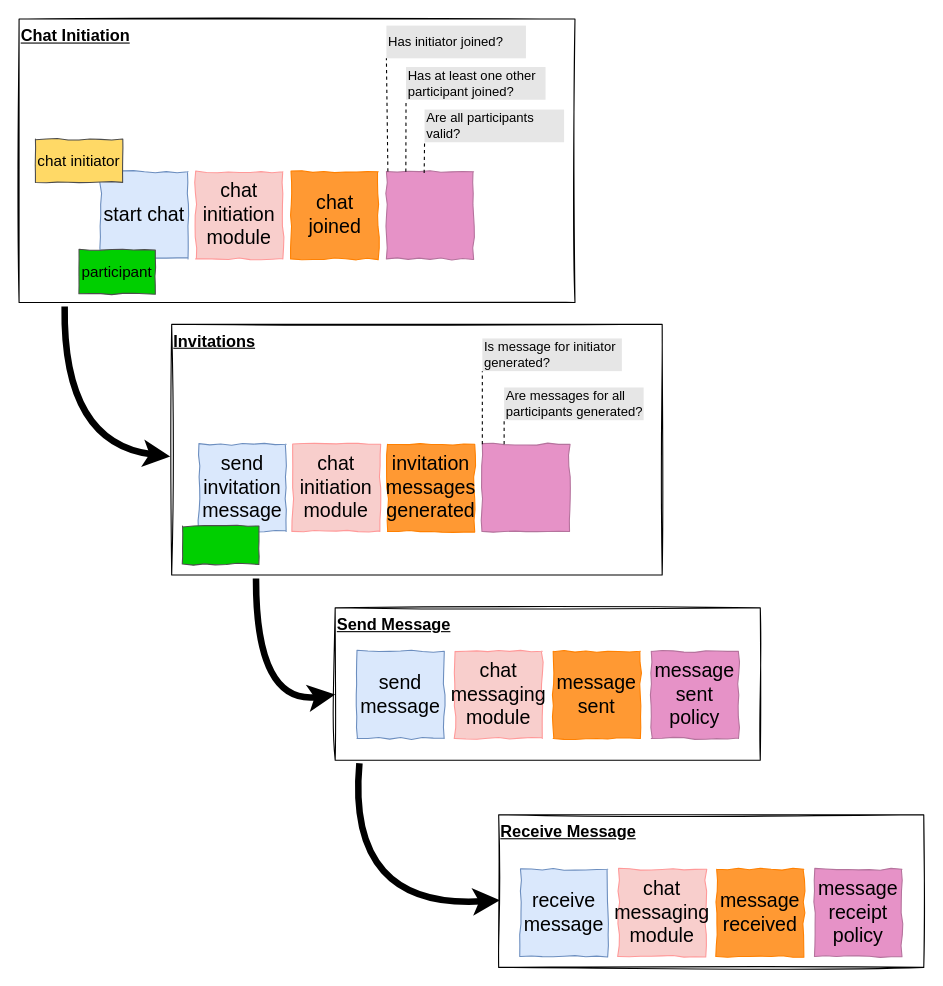
Some shapes in this 943 by 986 pixel diagram are drawn without their labels. The centre of each missing label's shape, as x and y in pixels:
"default messages" goes at point 220,544.
"joining policy" goes at point 429,215.
"message generation policy" goes at point 525,487.
